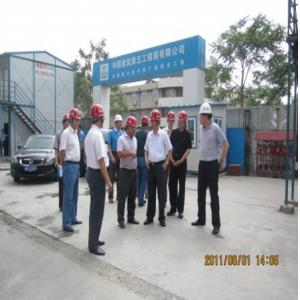red: (90, 103, 106, 129), (149, 110, 163, 132), (69, 108, 81, 129), (127, 116, 139, 137), (177, 110, 189, 130), (166, 112, 177, 129), (62, 114, 71, 129), (141, 115, 150, 129)
white: (198, 103, 212, 126), (115, 114, 123, 130)
